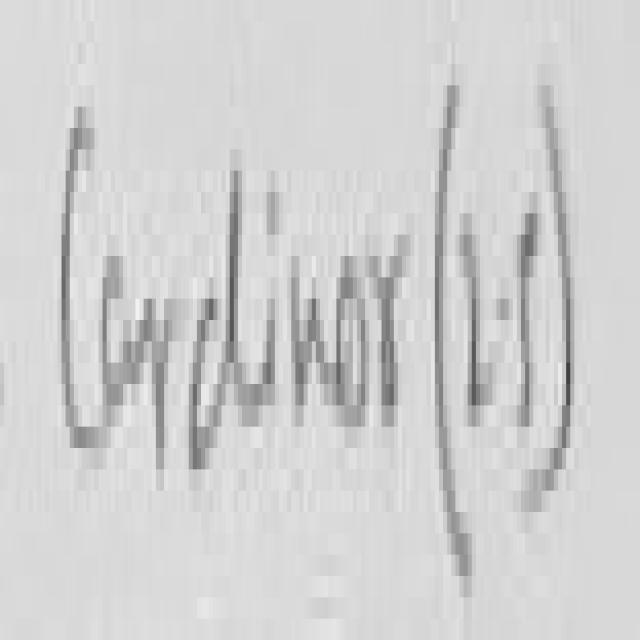2: (444, 179, 502, 493)
5: (508, 157, 552, 519)
C: (47, 50, 103, 555)
a: (98, 210, 136, 452)
d: (188, 104, 251, 540)
i: (253, 152, 286, 472)
n: (283, 197, 335, 487)
o: (329, 197, 372, 481)
r: (368, 201, 414, 472), (135, 245, 181, 510)
